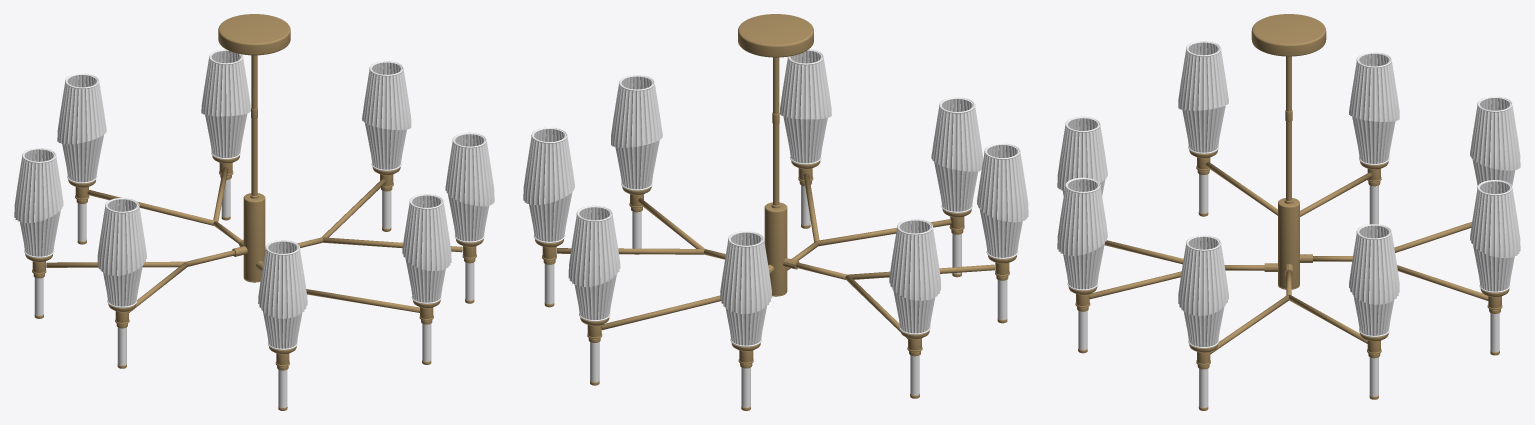
The picture shows the model from 3 angles, left to right: view 1: azimuth 30°, elevation 25°; view 2: azimuth 150°, elevation 25°; view 3: azimuth 270°, elevation 25°; orthographic projection. The views are drawn at different scales.
Parts seen in each view (by area): view 1: glass, brass; view 2: glass, brass; view 3: glass, brass.
Boxes of the visible parts, left/top/right/bottom form: glass: left=14, top=49, right=494, bottom=407; brass: left=25, top=14, right=483, bottom=410; glass: left=523, top=49, right=1028, bottom=407; brass: left=535, top=14, right=1016, bottom=410; glass: left=1057, top=41, right=1520, bottom=407; brass: left=1068, top=14, right=1509, bottom=410.
Size of the model in its own units: 0.748 by 0.53 by 0.7476.
Materials: 5 (5 with a texture image).
